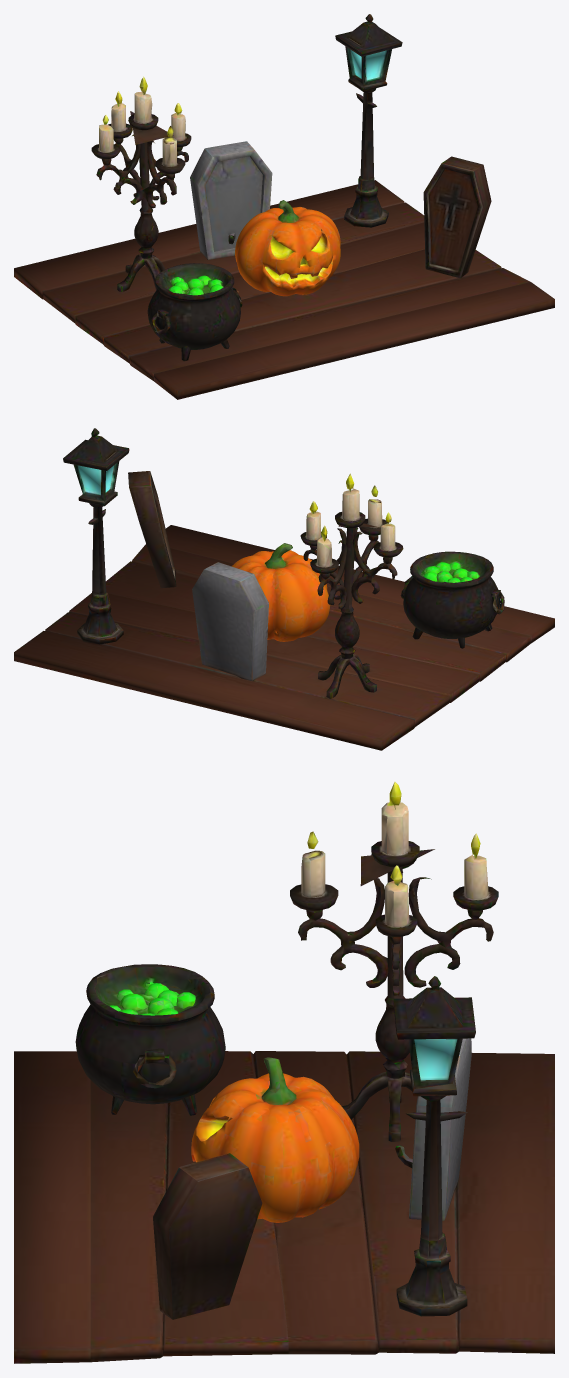
The model's file is mansion_objetos.glb.
3 views of the same model, one above another, from view 1: azimuth 30°, elevation 25°; view 2: azimuth 150°, elevation 25°; view 3: azimuth 270°, elevation 25° (orthographic). The views are drawn at different scales.
Visible parts, largest first — view 1: tripo_node_88812b58-a191-47b1-b4fc-f8e87fd59fd7; view 2: tripo_node_88812b58-a191-47b1-b4fc-f8e87fd59fd7; view 3: tripo_node_88812b58-a191-47b1-b4fc-f8e87fd59fd7.
Part boxes in pixels (x1,y1,x2,y2): tripo_node_88812b58-a191-47b1-b4fc-f8e87fd59fd7: (14, 14, 554, 399); tripo_node_88812b58-a191-47b1-b4fc-f8e87fd59fd7: (14, 428, 554, 750); tripo_node_88812b58-a191-47b1-b4fc-f8e87fd59fd7: (14, 781, 554, 1363).
Size of the model in its own units: 0.98 by 0.5386 by 0.7495.
1 material, 1 textured.
